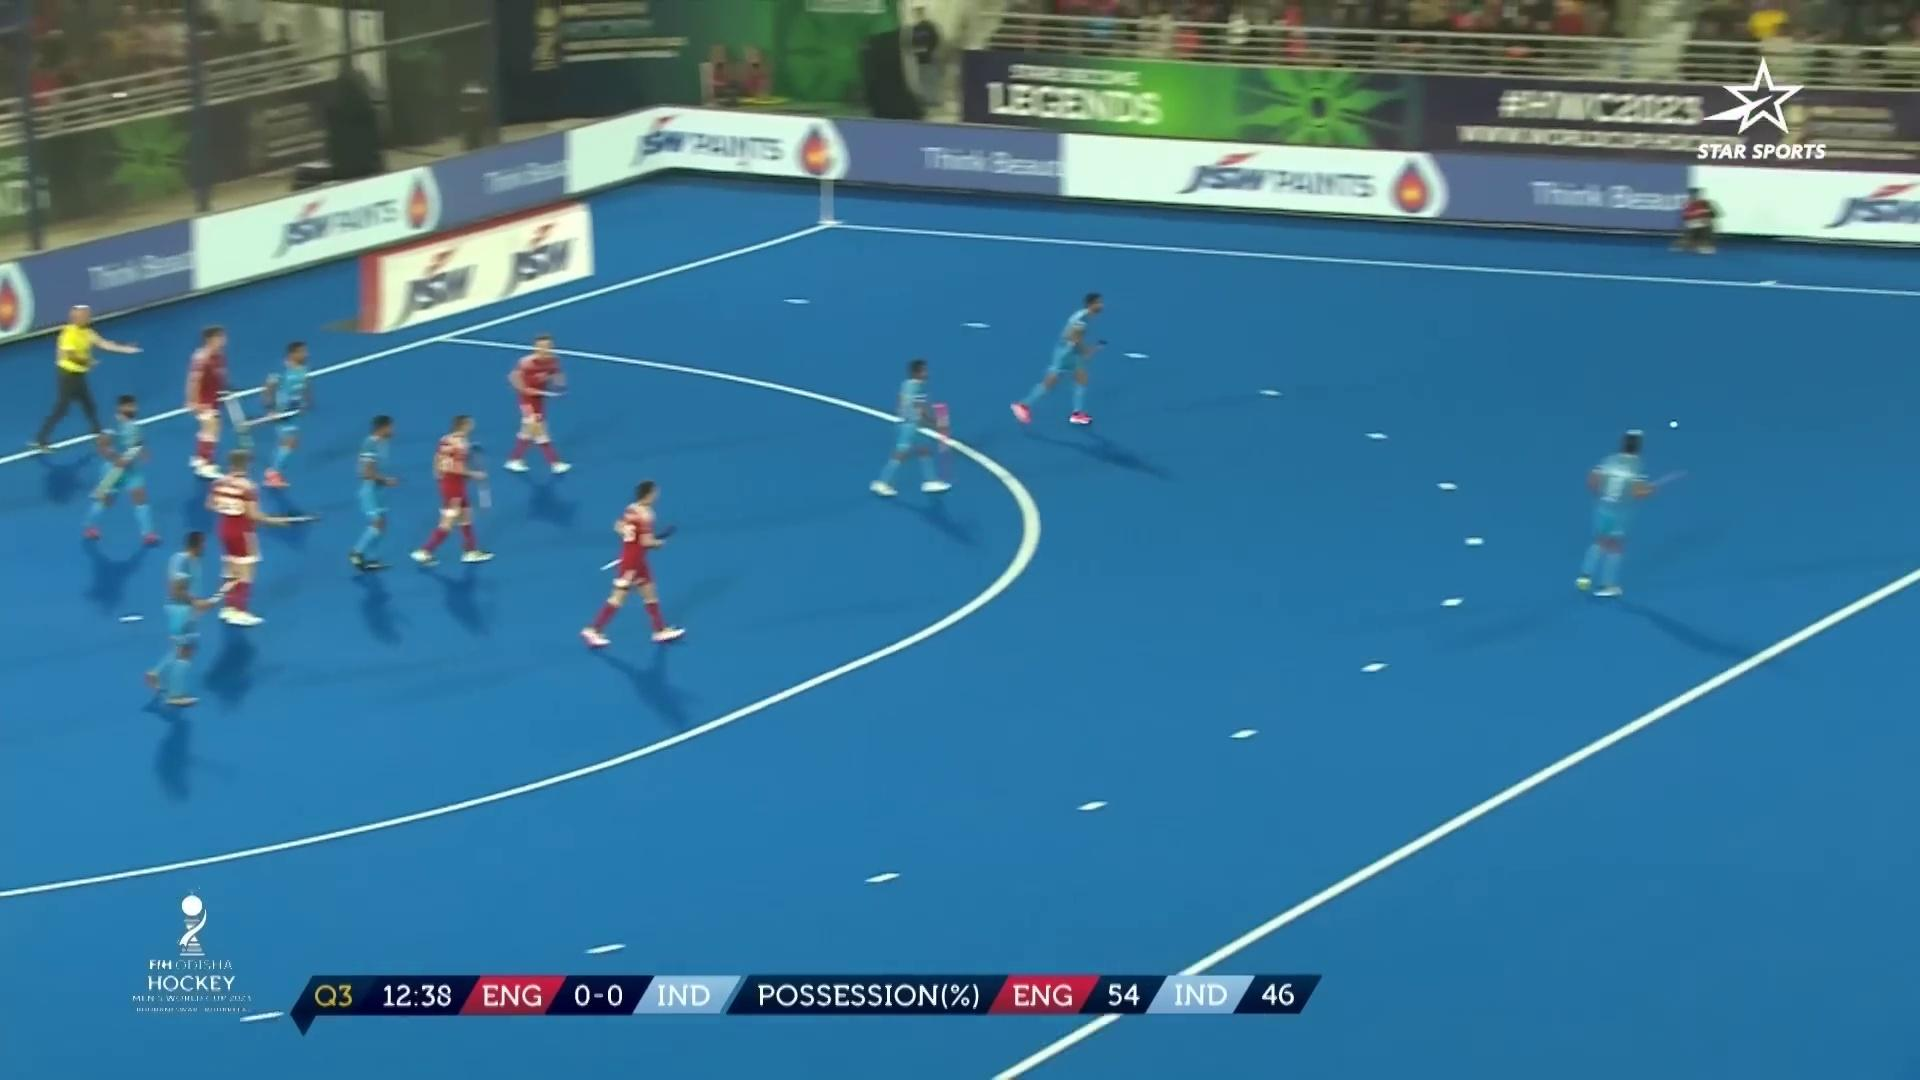ball: (1654, 404, 1695, 434)
